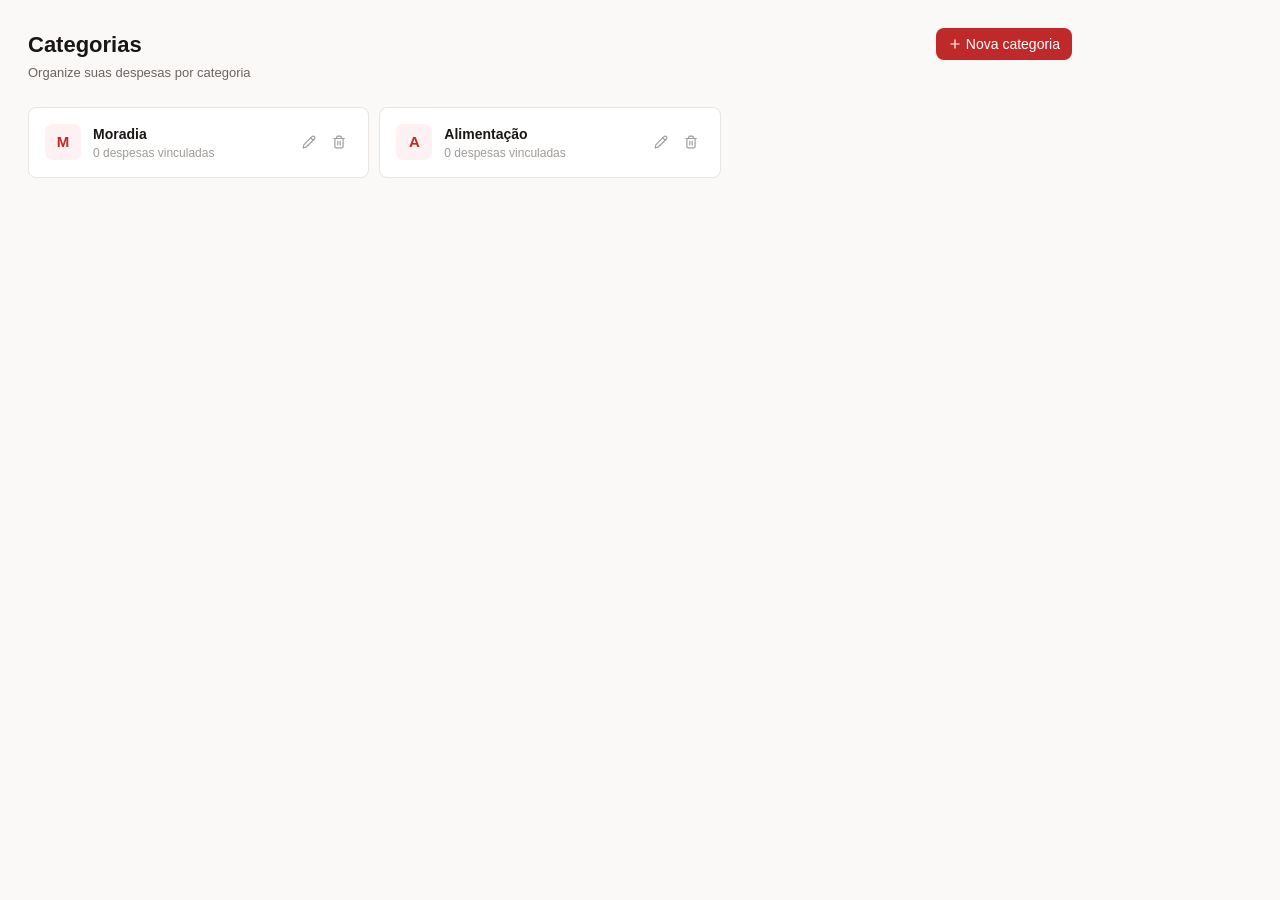
Test: página de categorias: cancelar › reabre a edição com o item correto após cancelar outro
This screenshot has width=1280, height=900.
Expected: the text "Moradia" is shown, [93,126,147,142]
Click the button named "Editar categoria" in the row of "Moradia". click: (309, 142)
box: [296,129,322,155]
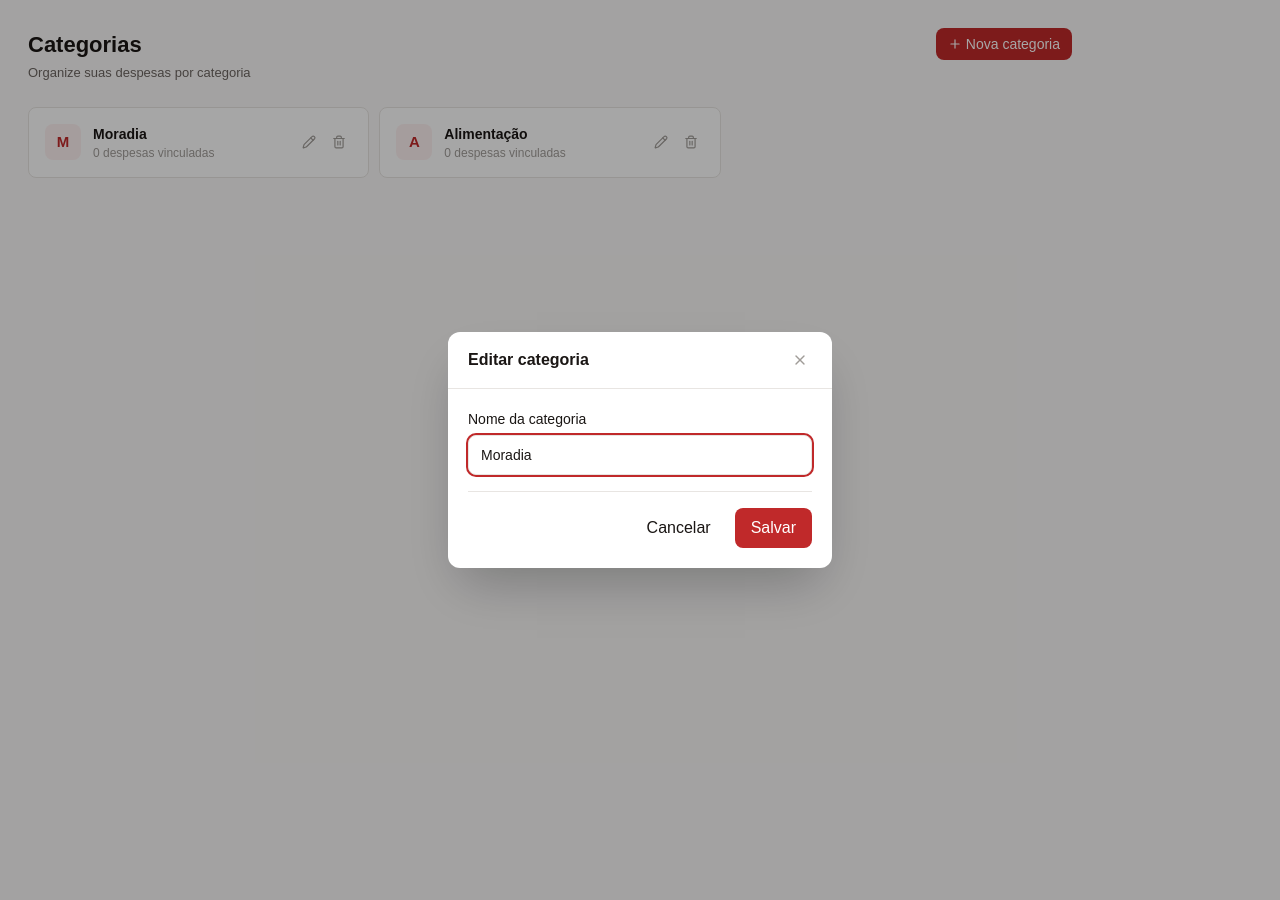
Click the button "Cancelar". click: (679, 528)
box: [631,508,727,548]
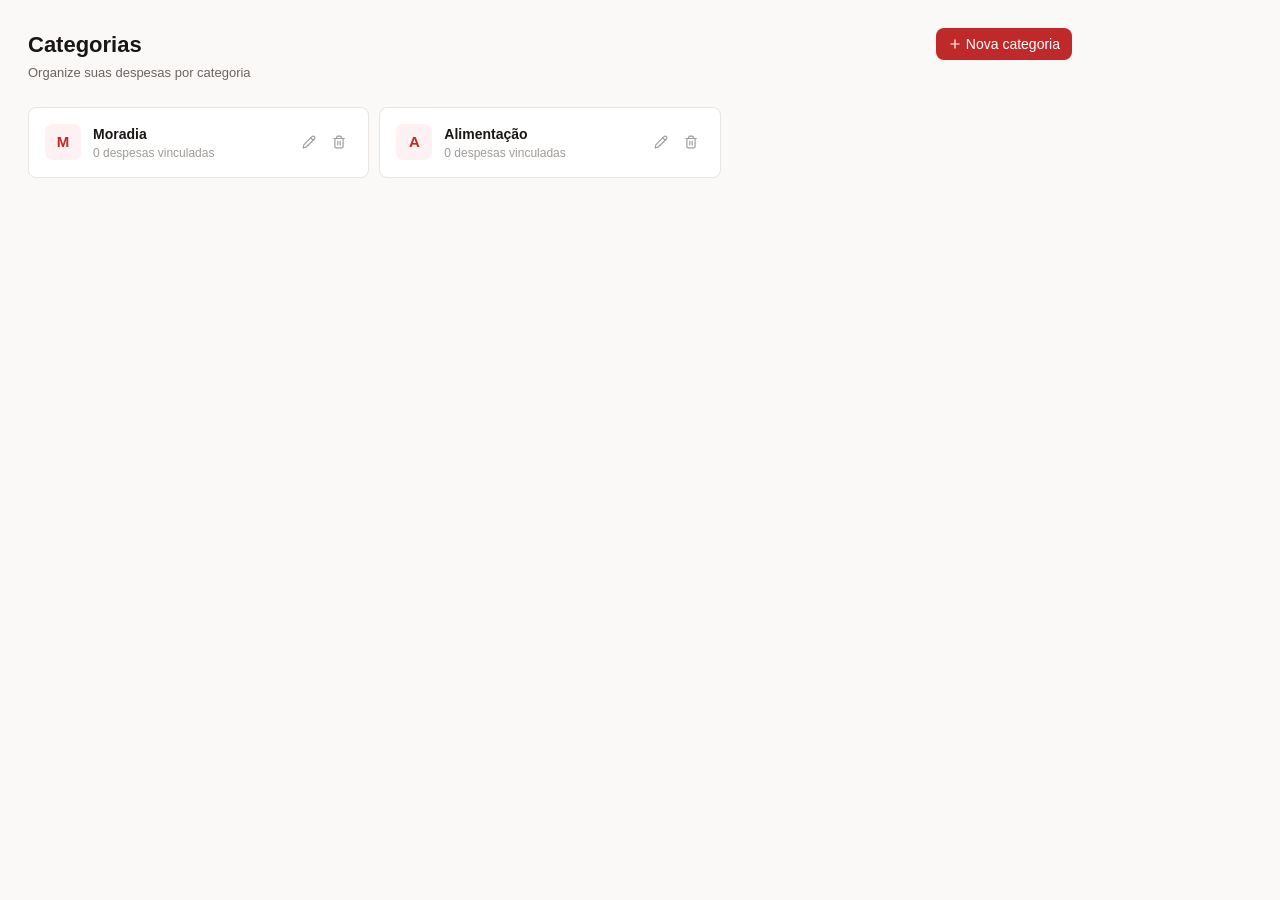
Expected: the dialog is gone
Click the button named "Editar categoria" in the row of "Alimentação". click: (661, 142)
box: [648,129,674,155]
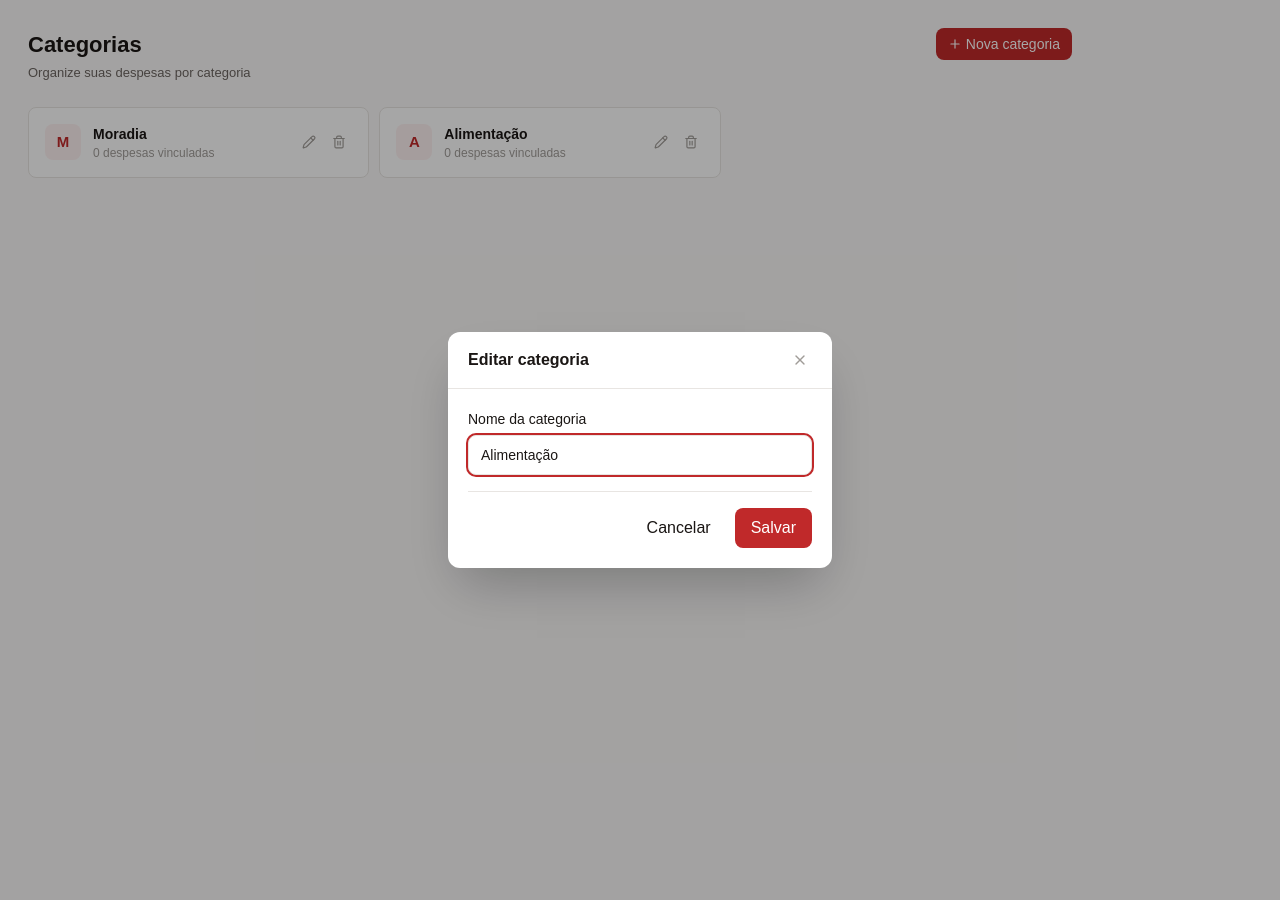
Expected: the field labelled "Nome da categoria" holds "Alimentação", [468,435,812,475]
